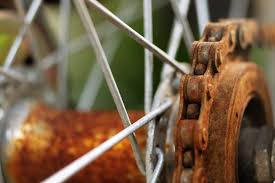rust: (176, 48, 261, 176), (48, 113, 101, 139)
